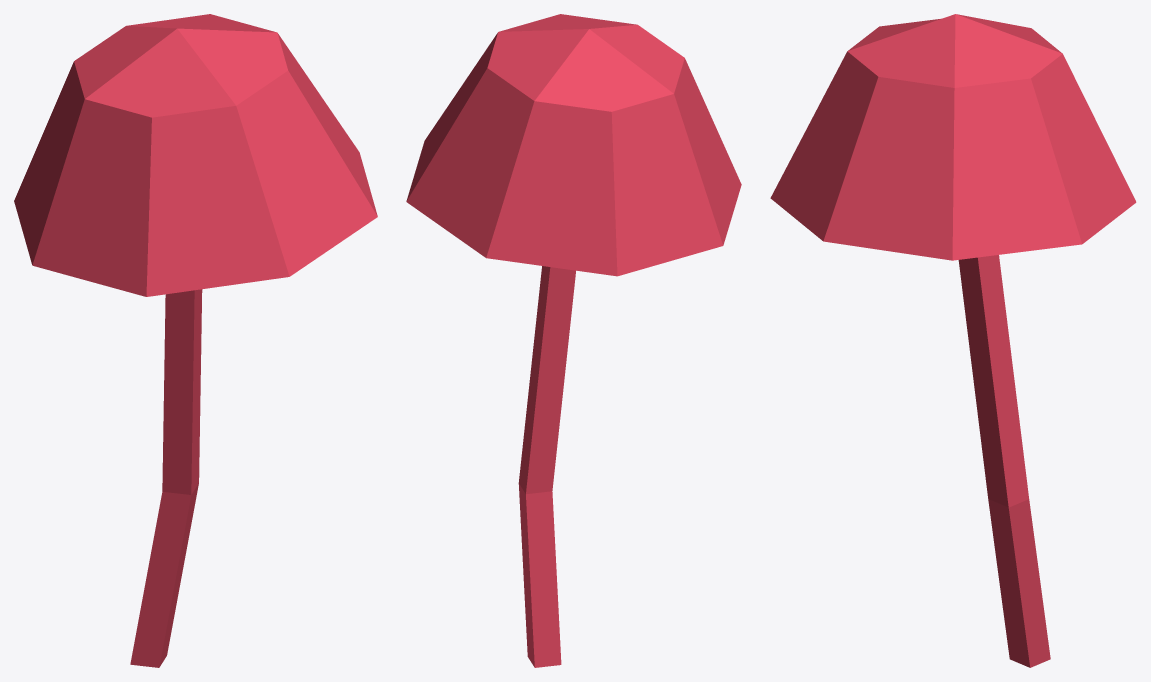
File: Mushroom_c_01.fbx
3 views of the same model, side by side, from view 1: azimuth 30°, elevation 25°; view 2: azimuth 150°, elevation 25°; view 3: azimuth 270°, elevation 25° (orthographic). The views are drawn at different scales.
Visible parts, largest first — view 1: Mushroom_c_01; view 2: Mushroom_c_01; view 3: Mushroom_c_01.
Boxes of the visible parts, x1=… form: Mushroom_c_01: x1=14, y1=14, x2=377, y2=667; Mushroom_c_01: x1=406, y1=14, x2=741, y2=667; Mushroom_c_01: x1=770, y1=14, x2=1136, y2=667.
Bounding box in the file's own units: 15.41 × 29.89 × 15.49.
